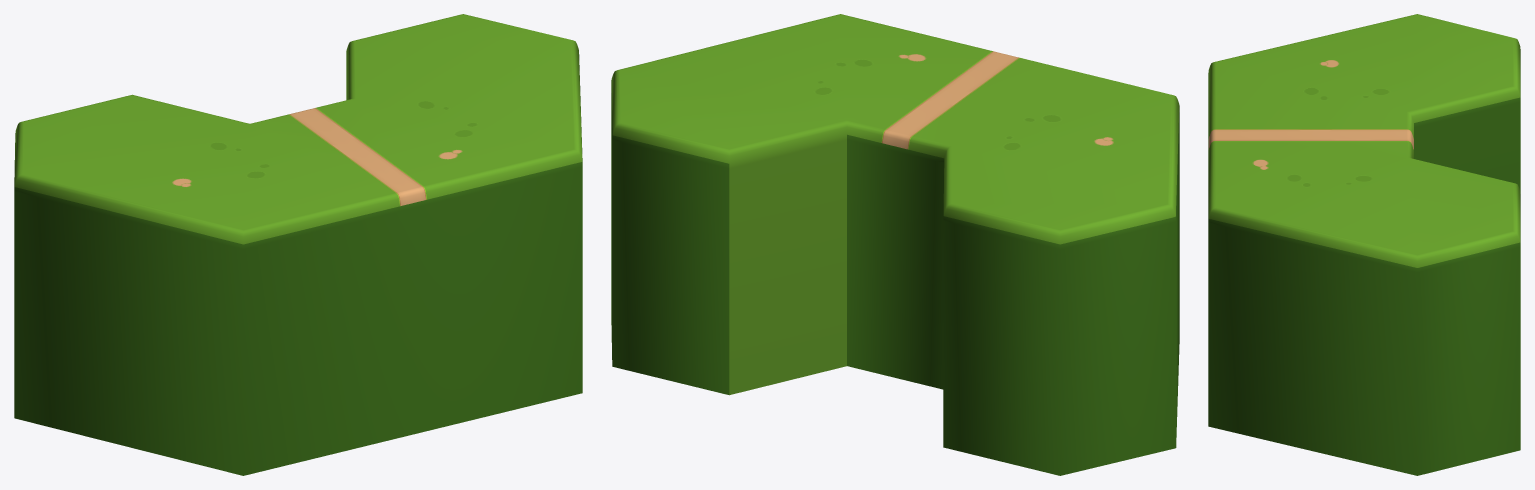
The model's file is goal.fbx.
The picture shows the model from 3 angles, left to right: view 1: azimuth 30°, elevation 25°; view 2: azimuth 150°, elevation 25°; view 3: azimuth 270°, elevation 25°; orthographic projection. The views are drawn at different scales.
Visible parts, largest first — view 1: Line20556; view 2: Line20556; view 3: Line20556.
Boxes of the visible parts, bbox=[...] form: Line20556: bbox=[14, 14, 582, 475]; Line20556: bbox=[611, 14, 1179, 475]; Line20556: bbox=[1208, 14, 1520, 475].
Size of the model in its own units: 3310 by 1354 by 1764.
